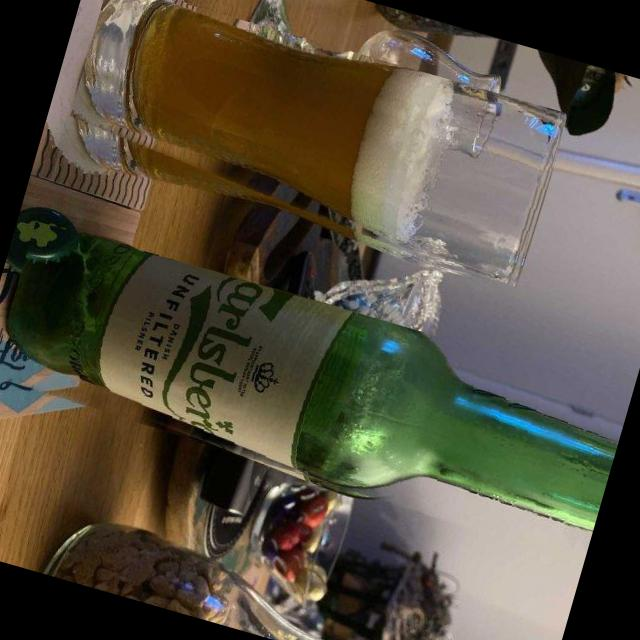Glass: (0, 220, 632, 564), (55, 0, 569, 295)
